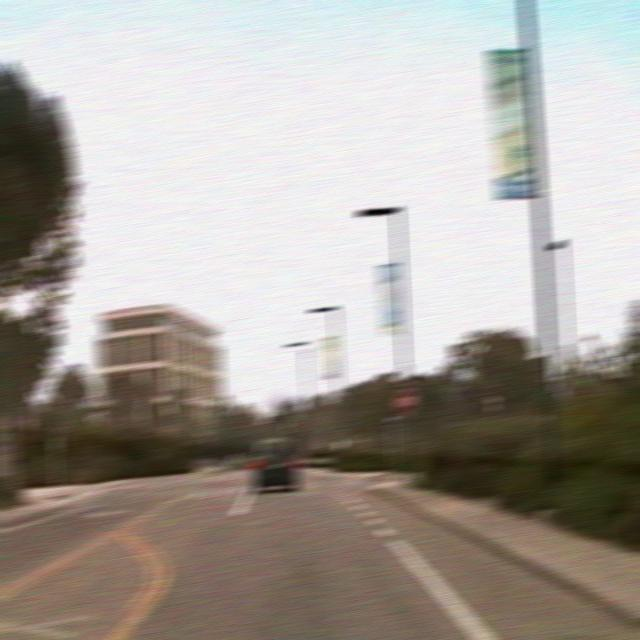stop: (392, 386, 417, 414)
